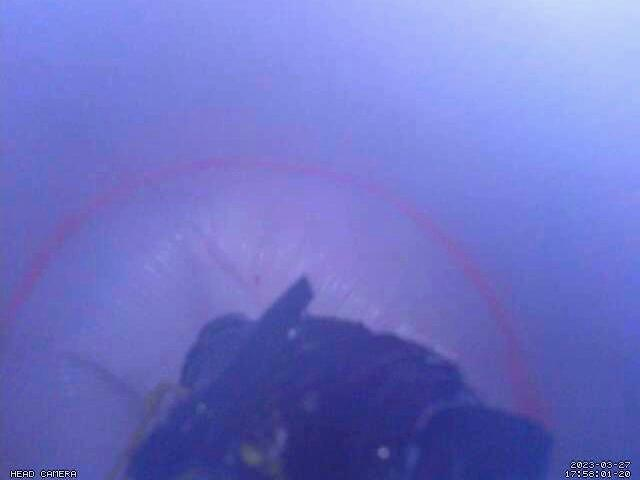head: (0, 157, 553, 433)
